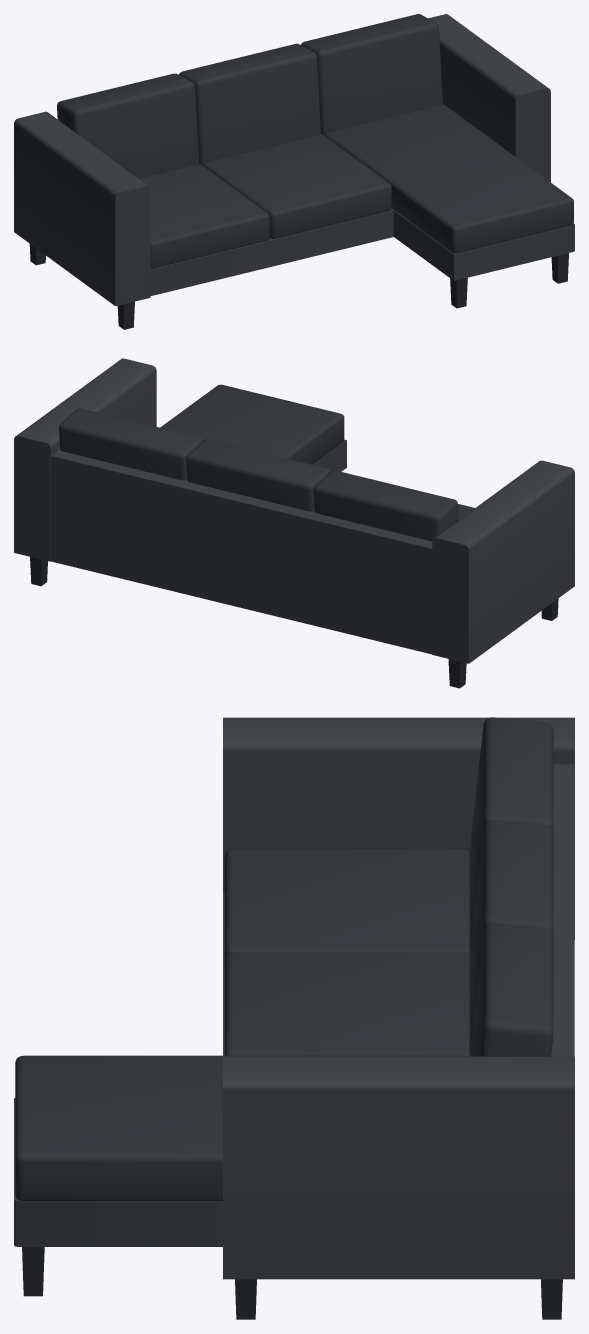
Rendered from Sofa7_C1.fbx.
3 views of the same model, one above another, from view 1: azimuth 30°, elevation 25°; view 2: azimuth 150°, elevation 25°; view 3: azimuth 270°, elevation 25° (orthographic). The views are drawn at different scales.
Parts seen in each view (by area): view 1: Sofa7_C1; view 2: Sofa7_C1; view 3: Sofa7_C1.
Part boxes in pixels (left/top/right/bottom): Sofa7_C1: left=14, top=14, right=574, bottom=329; Sofa7_C1: left=14, top=358, right=574, bottom=688; Sofa7_C1: left=14, top=717, right=574, bottom=1319.
Size of the model in its own units: 248 by 86.76 by 159.
